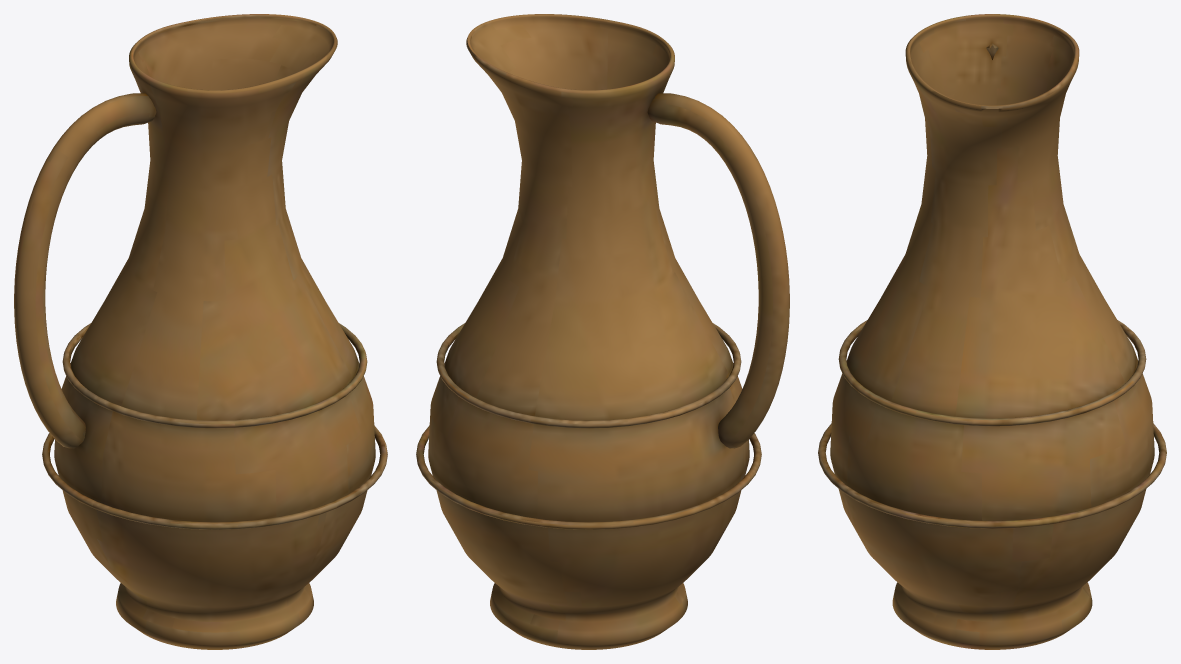
File: bronze_ewer.glb
3 views of the same model, side by side, from view 1: azimuth 30°, elevation 25°; view 2: azimuth 150°, elevation 25°; view 3: azimuth 270°, elevation 25° (orthographic).
Parts seen in each view (by area): view 1: bronze_ewer; view 2: bronze_ewer; view 3: bronze_ewer.
Boxes of the visible parts, left/top/right/bottom form: bronze_ewer: left=14, top=14, right=387, bottom=649; bronze_ewer: left=416, top=14, right=789, bottom=649; bronze_ewer: left=818, top=14, right=1166, bottom=649.
Bounding box in the file's own units: 0.1576 × 0.243 × 0.135.
1 material, 1 textured.
